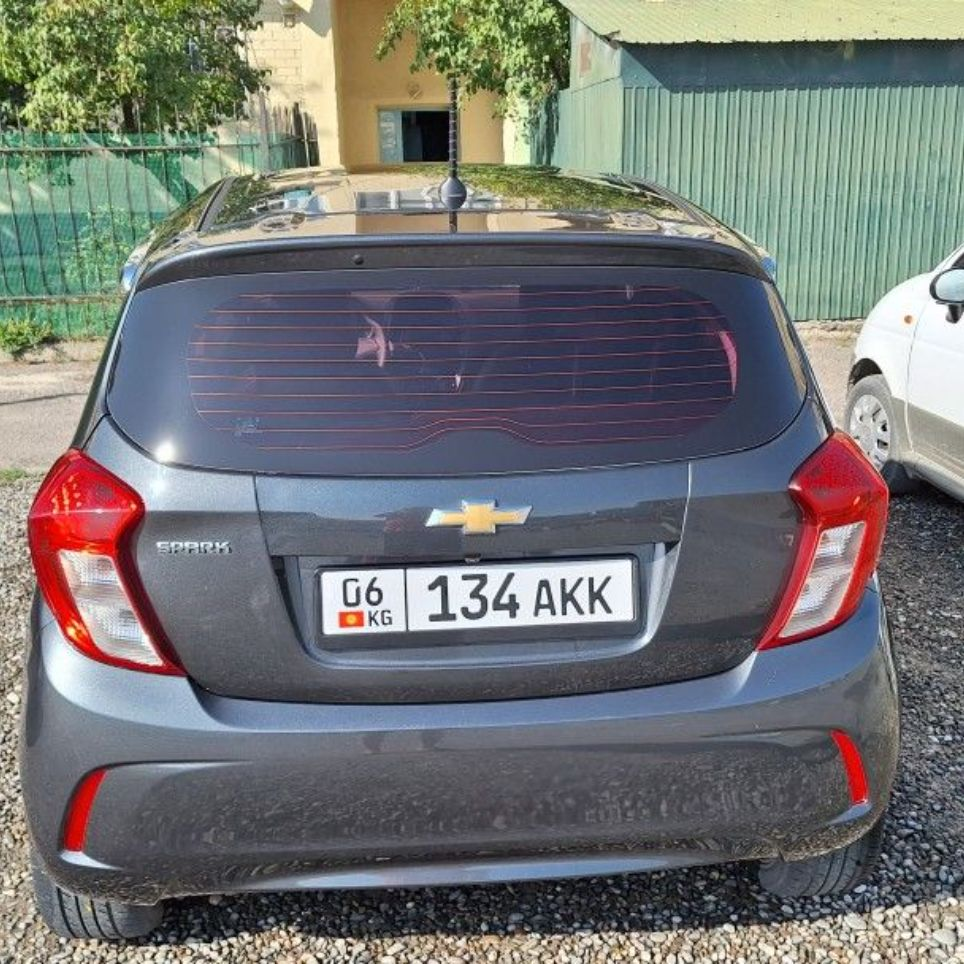license plate: (318, 562, 640, 638)
truck: (34, 171, 891, 911)
